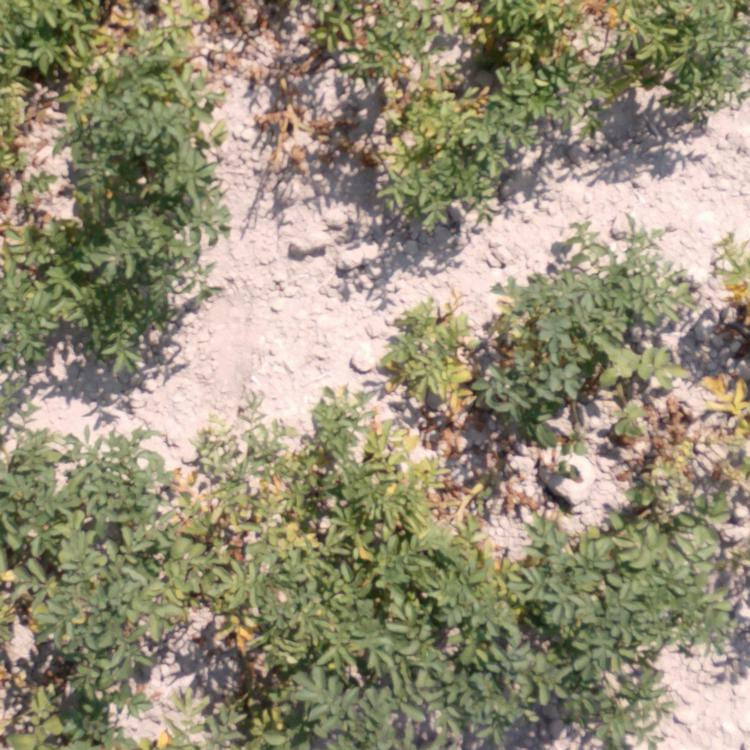healthy: (539, 532, 710, 712), (1, 219, 178, 373), (504, 248, 678, 399), (1, 442, 160, 585), (412, 563, 531, 750), (83, 44, 220, 206), (622, 1, 745, 121), (307, 603, 403, 750)
stressed: (179, 435, 349, 585), (1, 602, 153, 748), (356, 88, 519, 222), (186, 598, 300, 750), (607, 414, 750, 529), (357, 423, 478, 548), (379, 288, 495, 414), (456, 4, 613, 89), (293, 1, 444, 78), (13, 1, 73, 174), (685, 237, 750, 394), (100, 1, 260, 41), (273, 83, 345, 149)
